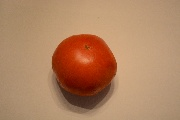tomato: (51, 32, 117, 97)
